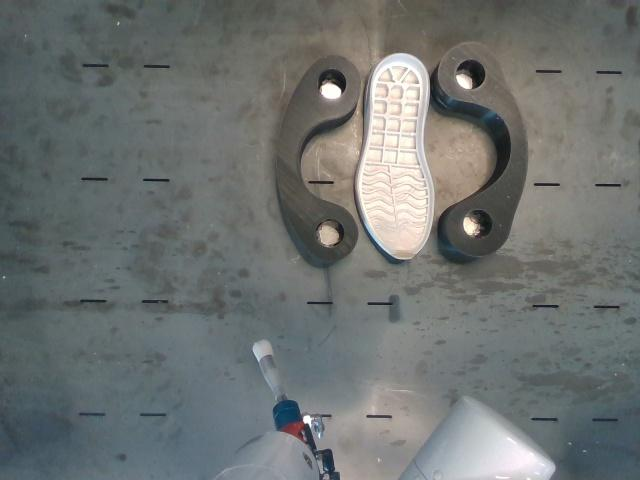shoes: (359, 53, 434, 259)
